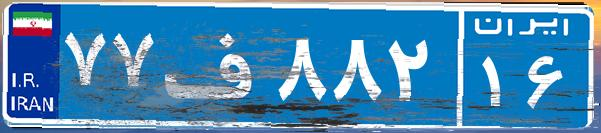1: (475, 38, 525, 113)
2: (385, 28, 445, 110)
6: (525, 38, 570, 115)
7: (57, 26, 110, 107), (110, 28, 158, 105)
8: (273, 28, 330, 110), (330, 28, 385, 110)
ف: (158, 15, 273, 115)
